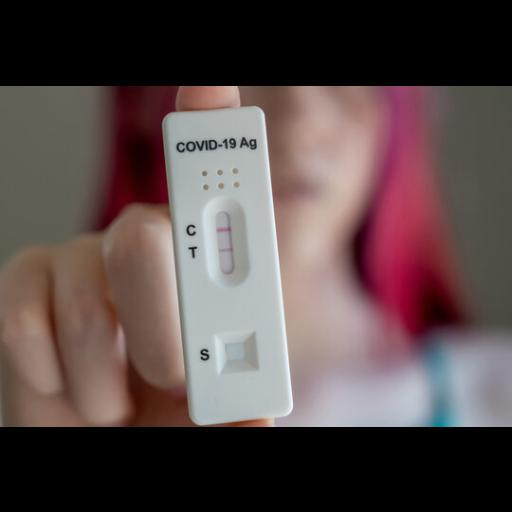Pos: (164, 104, 295, 426)
